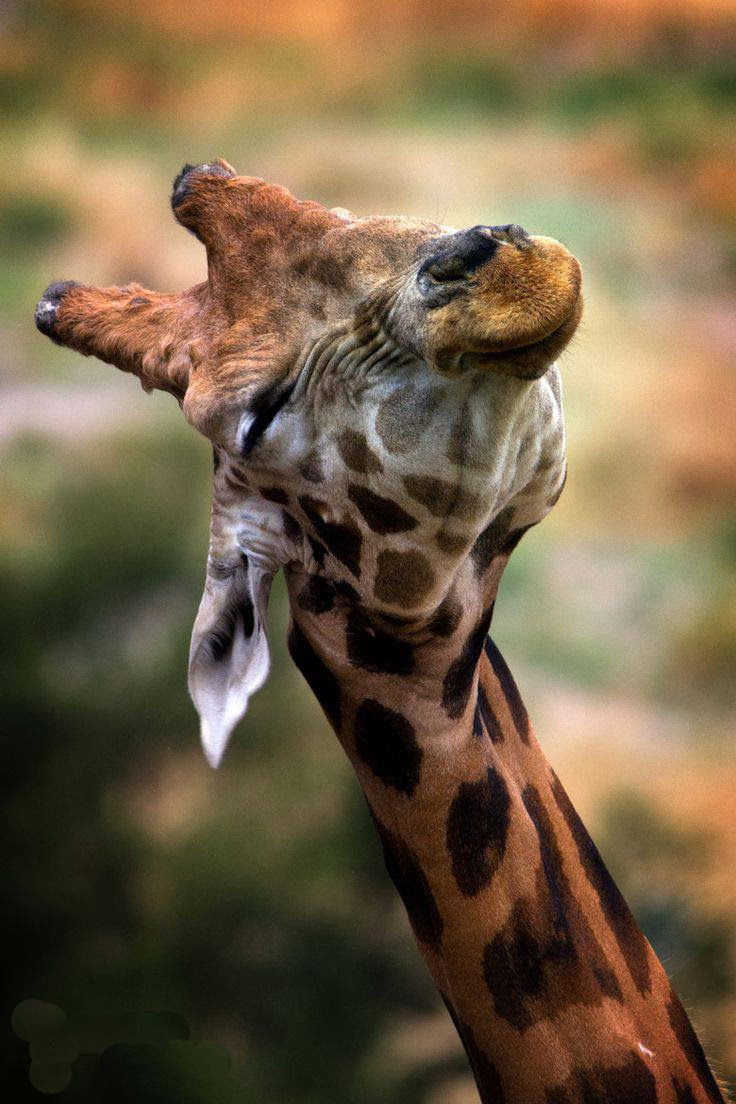Jirafa: (17, 128, 626, 814)
